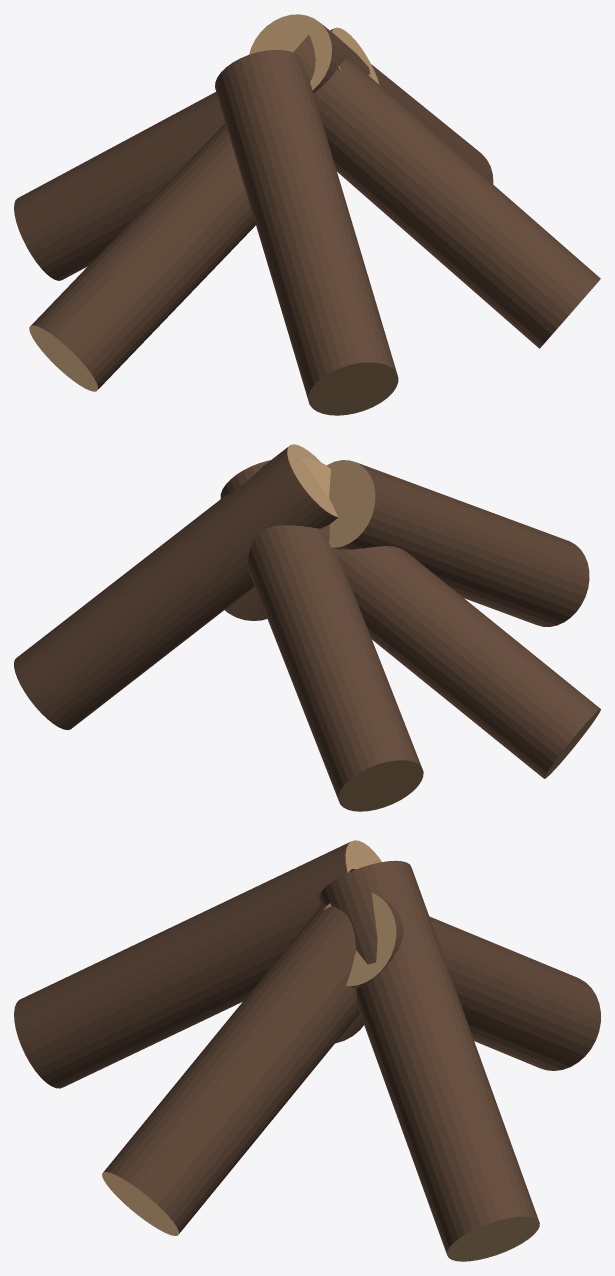
Rendered from Fire_Wood.fbx.
3 views of the same model, one above another, from view 1: azimuth 30°, elevation 25°; view 2: azimuth 150°, elevation 25°; view 3: azimuth 270°, elevation 25° (orthographic). The views are drawn at different scales.
Parts seen in each view (by area): view 1: Cylinder.004, Cylinder.001; view 2: Cylinder.004, Cylinder.001; view 3: Cylinder.004, Cylinder.001.
Boxes of the visible parts, box(x1,y1,x2,y2) form: Cylinder.004: box(14, 23, 600, 399); Cylinder.001: box(29, 14, 592, 415); Cylinder.004: box(14, 447, 600, 799); Cylinder.001: box(287, 444, 600, 811); Cylinder.004: box(14, 842, 600, 1253); Cylinder.001: box(102, 840, 539, 1261).
Bounding box in the file's own units: 64.27 × 34.73 × 59.76.
